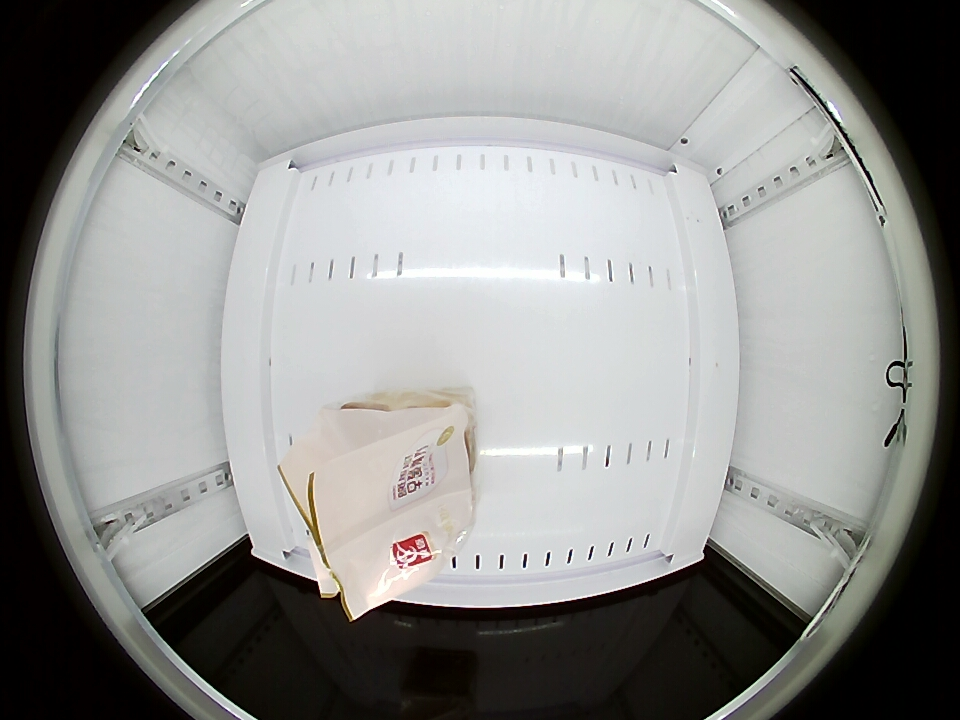zaocanmofang: (295, 401, 478, 613)
